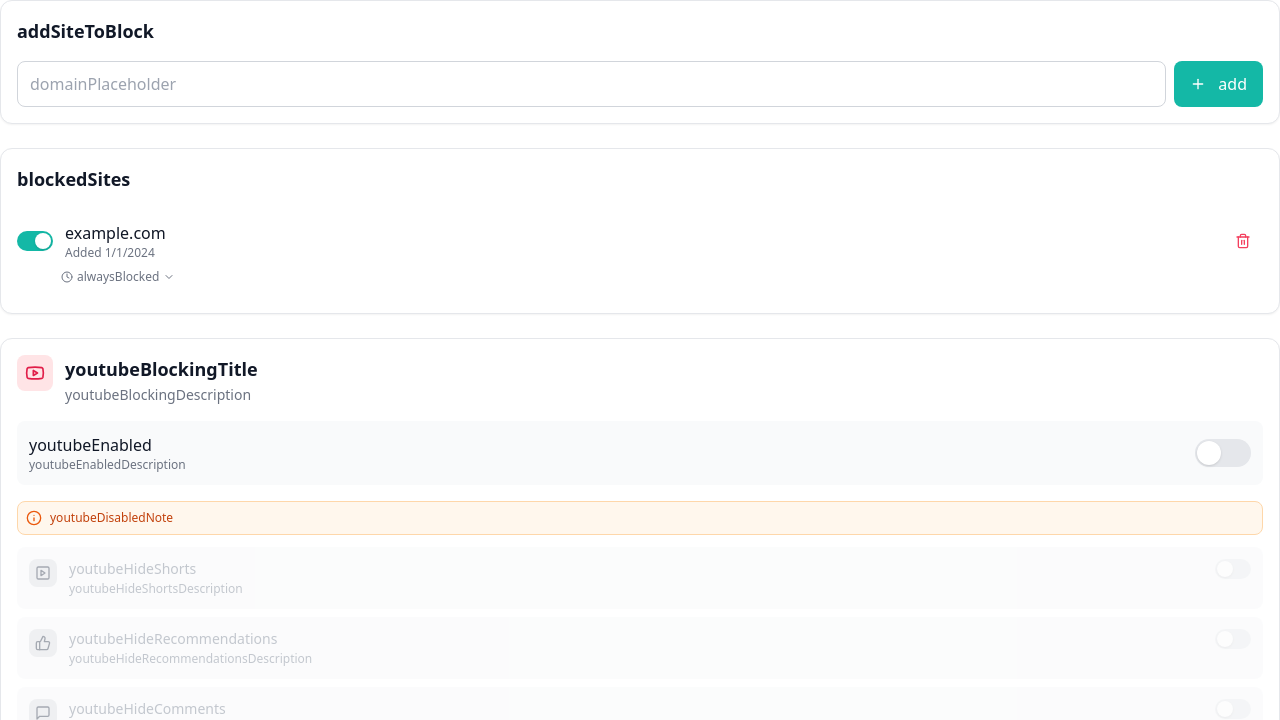
Test case: BlocklistTab › パスワード保護なしの解除 › 確認モーダルを閉じても解除はされない
This screenshot has width=1280, height=720.
Click the button with test id "blocklist-item-remove". click: (1243, 241)
box: [1223,227,1263,255]
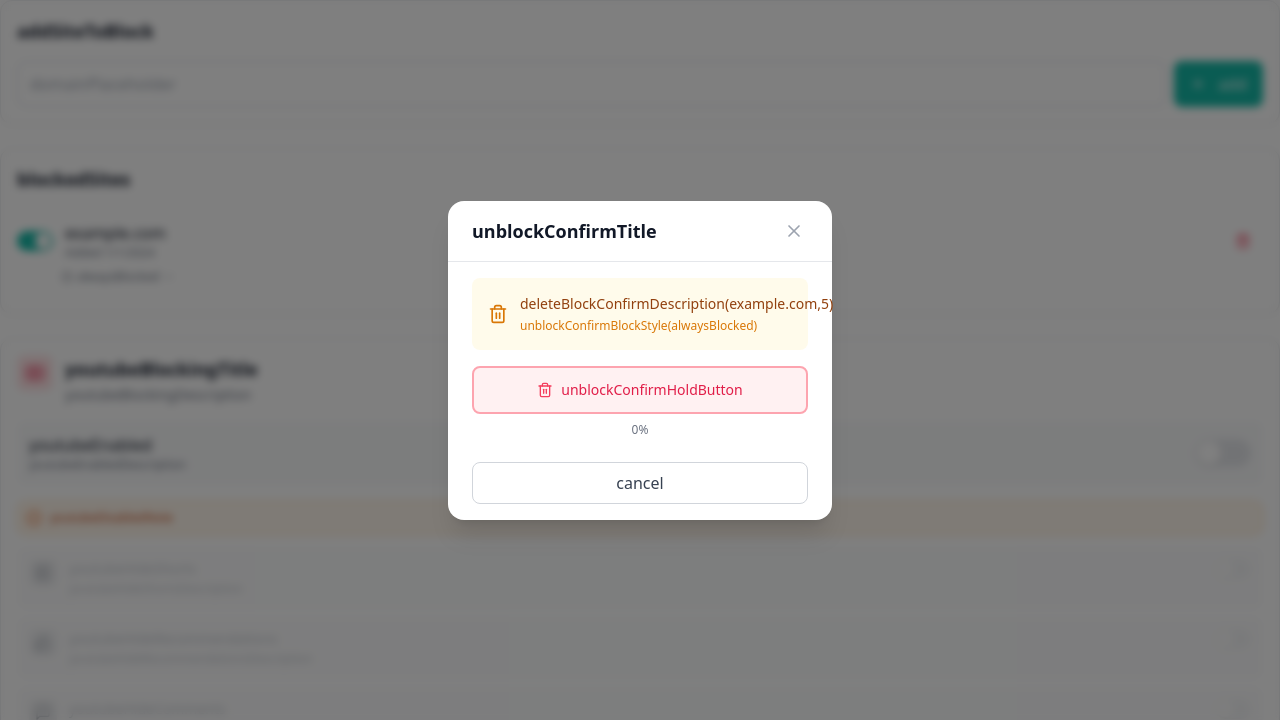
Click the button with test id "unblock-confirm-cancel". click: (640, 482)
box: [472,462,808,504]
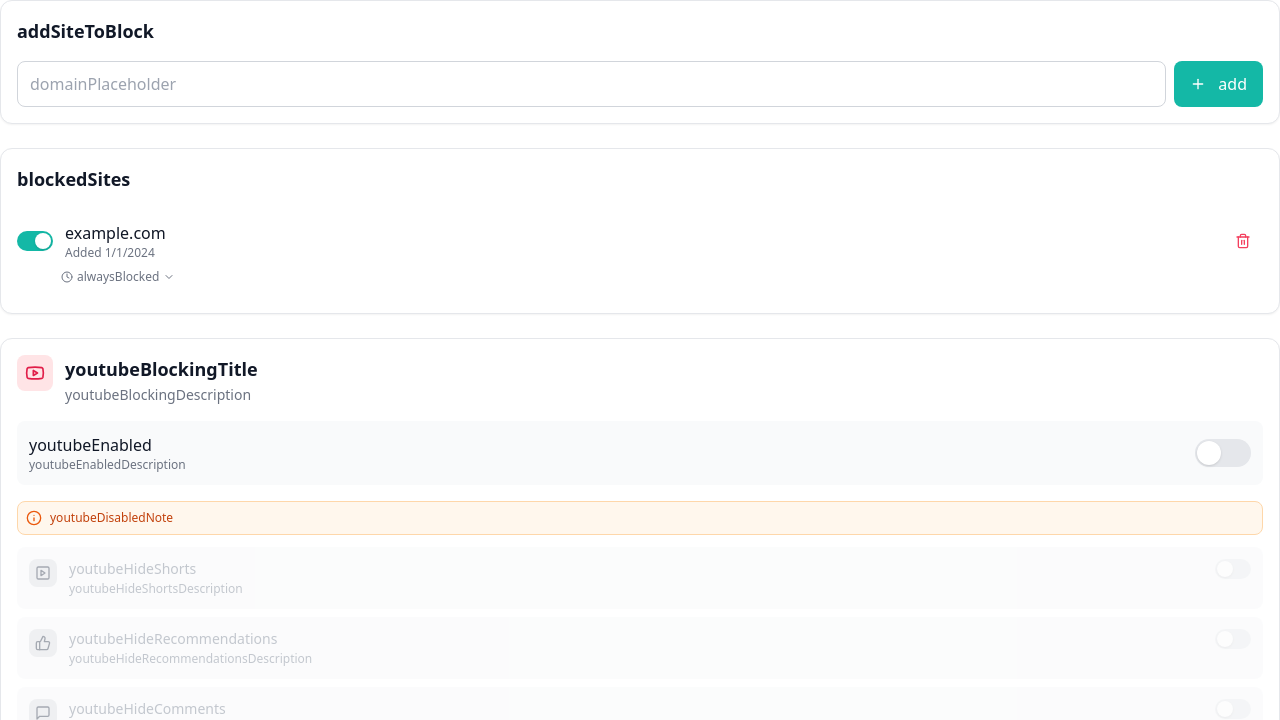
Check: the button with test id "unblock-confirm-hold-button" is gone
